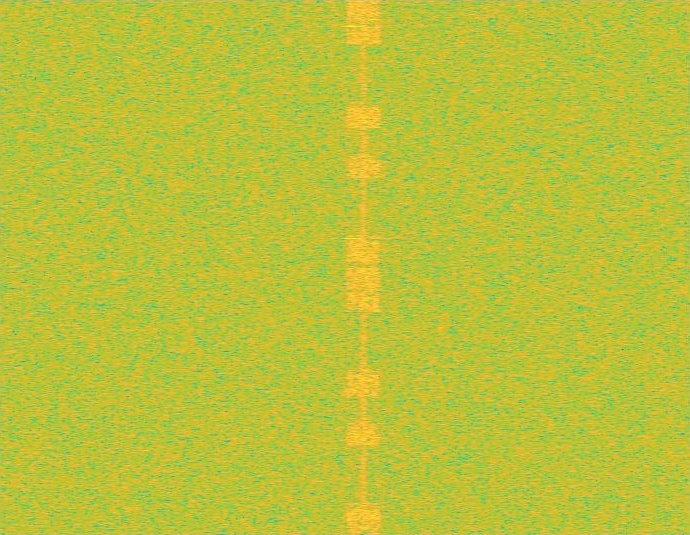DSSS: (361, 0, 366, 534)
LTE: (346, 0, 381, 534)
Radar: (347, 0, 361, 534)
